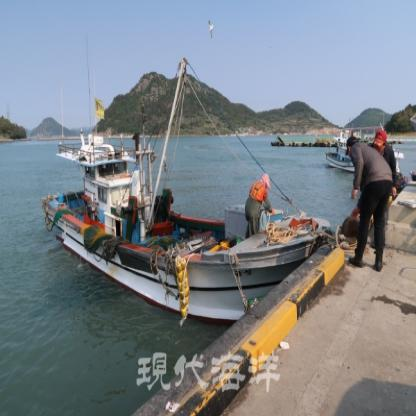fish-b: (39, 49, 335, 331)
